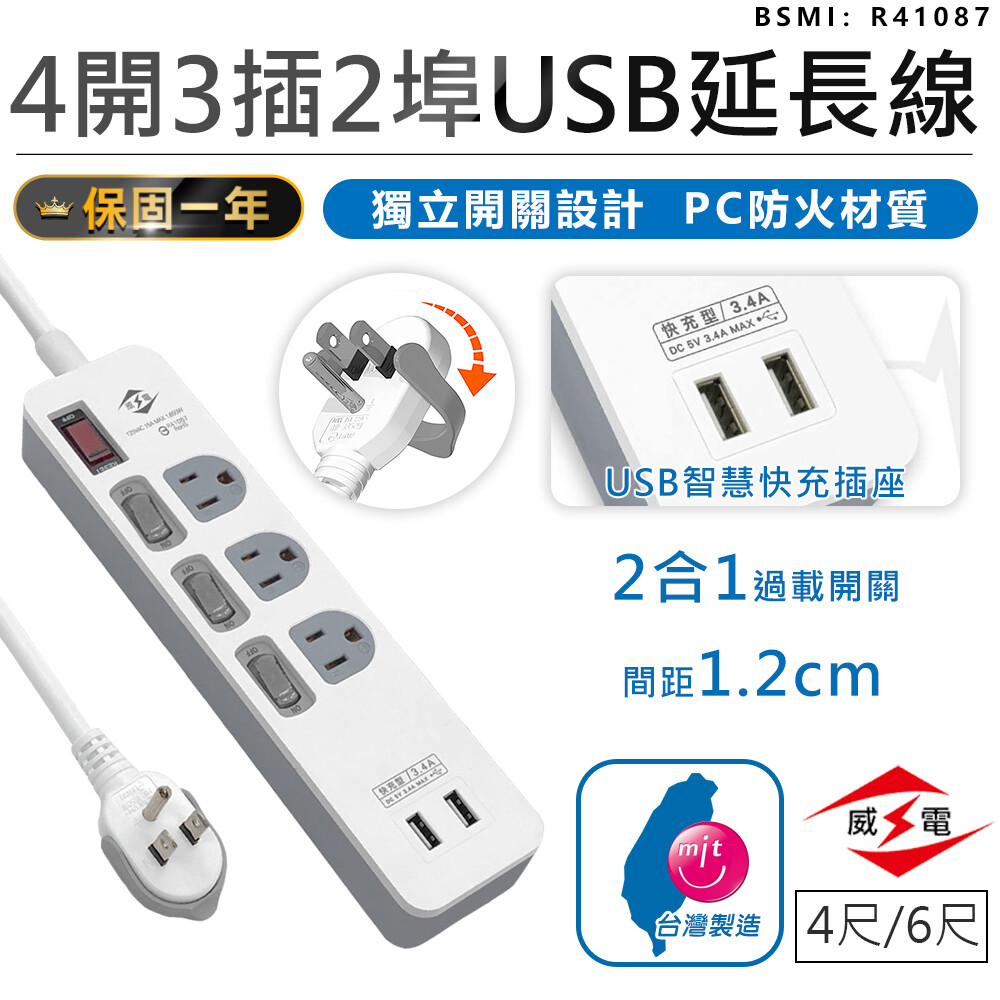socket: (20, 328, 545, 956)
